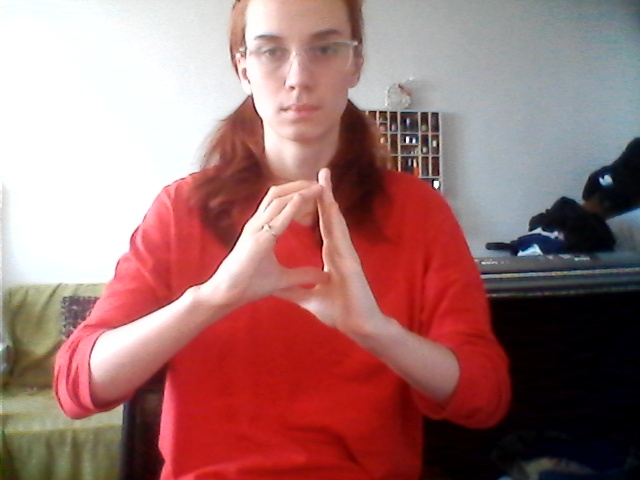d: (232, 167, 383, 334)
